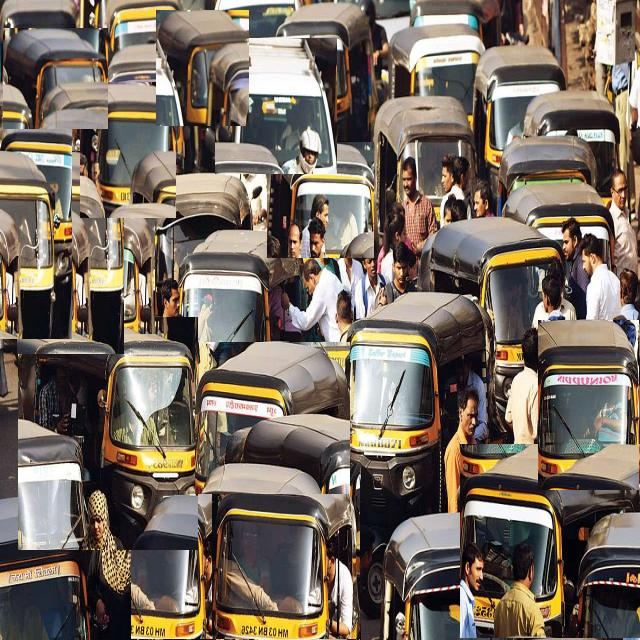autorickshaw: (346, 293, 495, 608), (19, 318, 198, 550), (131, 418, 318, 639), (460, 445, 640, 638), (420, 218, 562, 408), (212, 465, 360, 640), (195, 343, 350, 494), (18, 151, 124, 354), (382, 513, 521, 640), (539, 320, 639, 490), (0, 107, 72, 339), (180, 231, 300, 366), (278, 2, 378, 149), (474, 44, 565, 194), (50, 205, 155, 334), (374, 96, 476, 228), (80, 82, 176, 218), (104, 44, 200, 173), (268, 142, 374, 258), (151, 173, 251, 281), (156, 11, 249, 126), (4, 29, 108, 129), (389, 24, 485, 117)
car: (216, 38, 337, 174)
